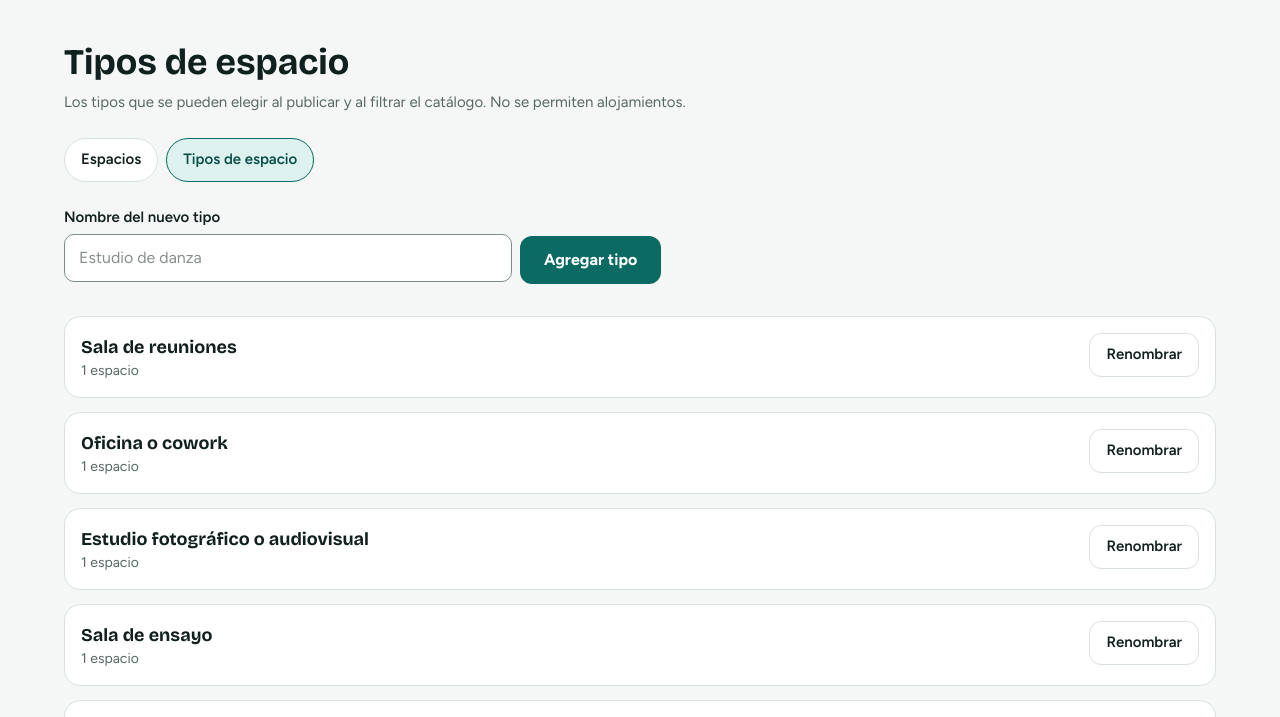
Test: AdminSpaceTypesPage (AD-02) › crear › un nombre de una letra no se manda y lo pide
This screenshot has width=1280, height=717.
Type "a" into the field labelled "Nombre del nuevo tipo" at (288, 258), box [64, 234, 512, 282]
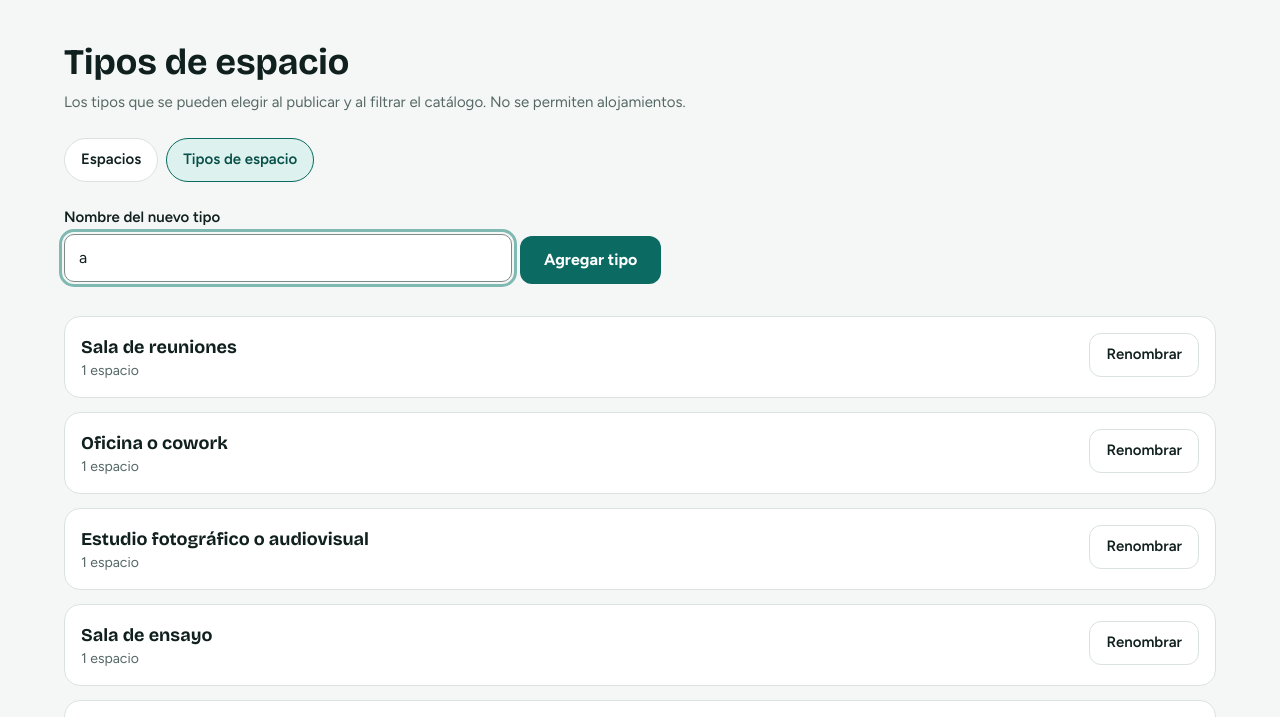
Click the button "Agregar tipo" at (591, 260), box [520, 236, 661, 284]
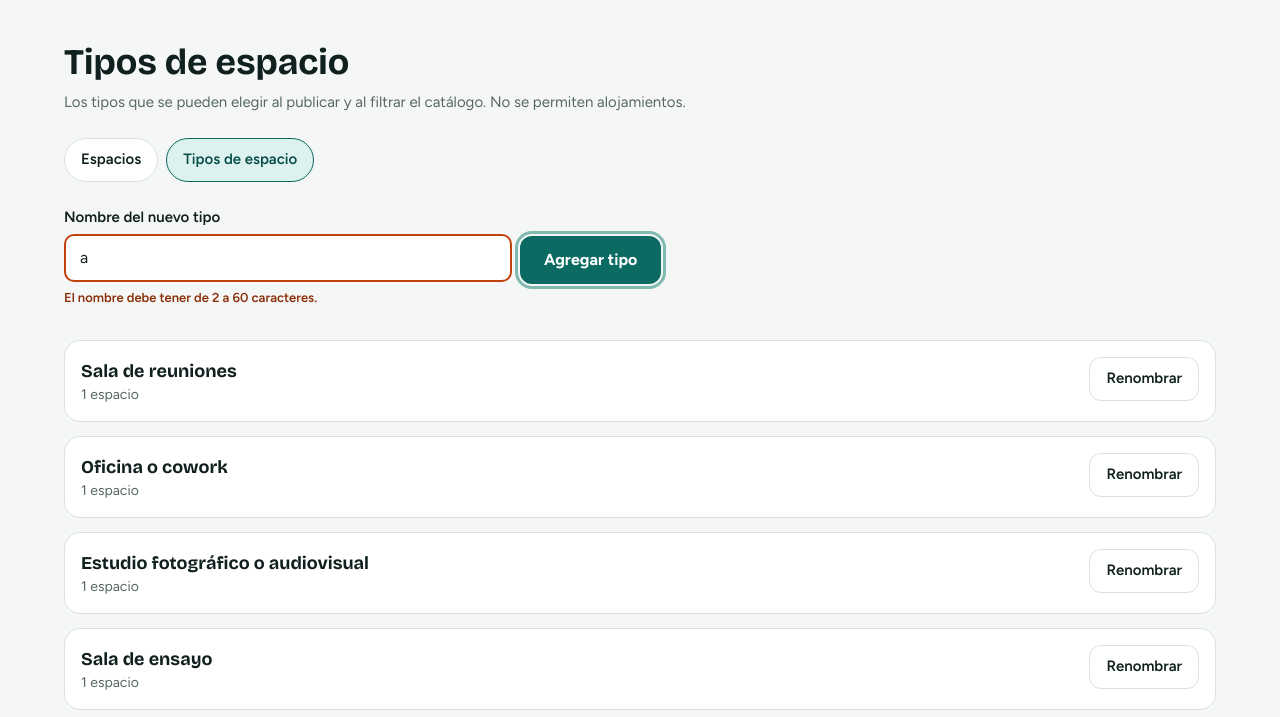
Expected: the text "El nombre debe tener de 2 a 60 caracteres." is shown, [64, 290, 317, 305]
